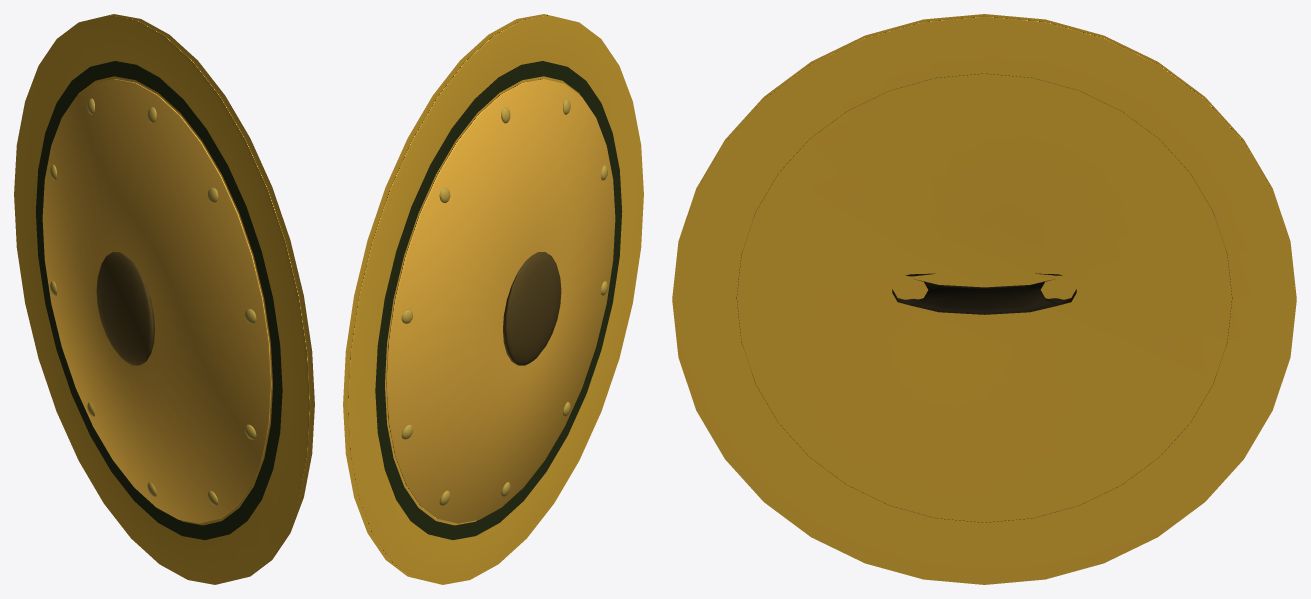
Rendered from basic_shield.fbx.
3 renders of one model, left to right at view 1: azimuth 30°, elevation 25°; view 2: azimuth 150°, elevation 25°; view 3: azimuth 270°, elevation 25°, orthographic. The views are drawn at different scales.
Visible parts, largest first — view 1: main_shield_inner, main_shield_outer, shield_connecting_brace, shield_front_bearing, shield_side_bearing; view 2: main_shield_inner, main_shield_outer, shield_connecting_brace, shield_front_bearing, shield_side_bearing; view 3: main_shield_outer, shield_handle.
Boxes of the visible parts, left/top/right/bottom form: main_shield_inner: left=42, top=78, right=272, bottom=523; main_shield_outer: left=14, top=14, right=314, bottom=584; shield_connecting_brace: left=35, top=61, right=282, bottom=539; shield_front_bearing: left=96, top=252, right=154, bottom=365; shield_side_bearing: left=50, top=98, right=256, bottom=505; main_shield_inner: left=385, top=78, right=615, bottom=523; main_shield_outer: left=343, top=14, right=643, bottom=584; shield_connecting_brace: left=375, top=61, right=622, bottom=539; shield_front_bearing: left=503, top=252, right=561, bottom=365; shield_side_bearing: left=401, top=98, right=607, bottom=505; main_shield_outer: left=672, top=14, right=1296, bottom=584; shield_handle: left=892, top=273, right=1076, bottom=314.
Size of the model in its own units: 10.9 by 100 by 100.
